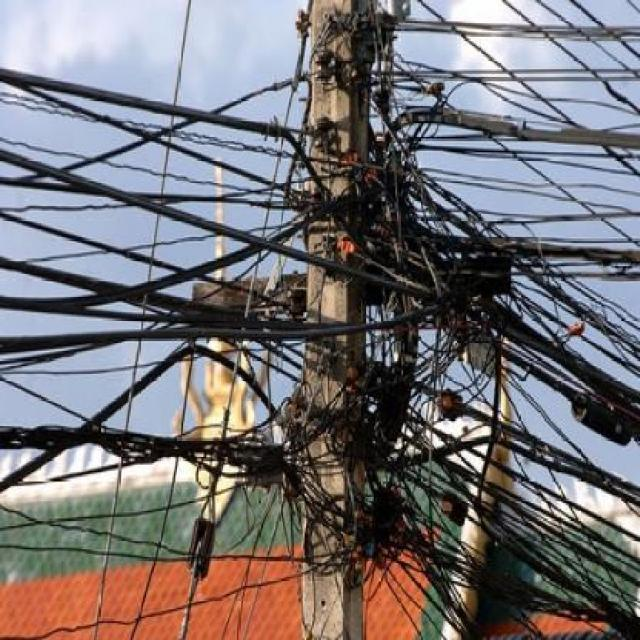garbage: (268, 9, 640, 599), (3, 68, 322, 598)
